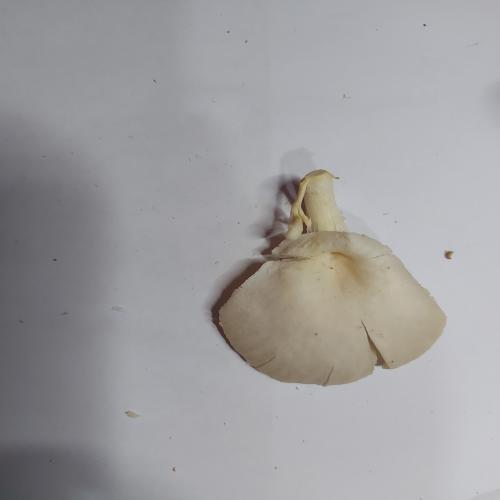Oyster Mushroom: (216, 168, 447, 386)
